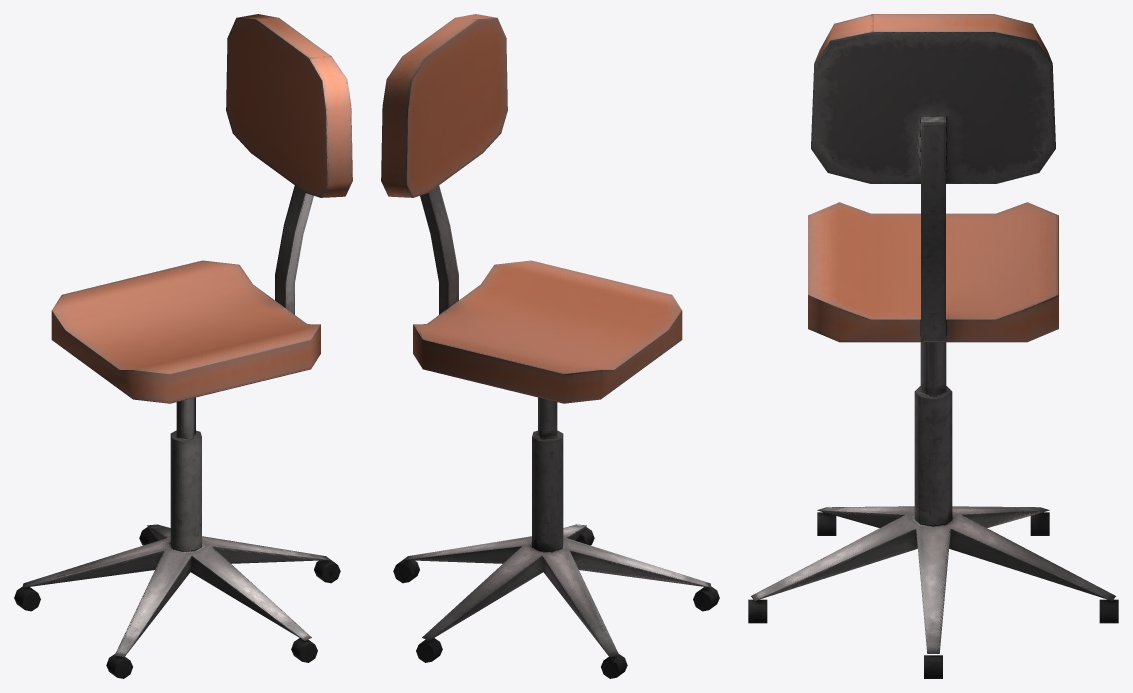
The model's file is chair_v2.glb.
3 renders of one model, left to right at view 1: azimuth 30°, elevation 25°; view 2: azimuth 150°, elevation 25°; view 3: azimuth 270°, elevation 25°, orthographic. The views are drawn at different scales.
Parts seen in each view (by area): view 1: Chair; view 2: Chair; view 3: Chair.
Part boxes in pixels (box(x1,y1,x2,y2)): Chair: box(14, 14, 352, 678); Chair: box(381, 14, 719, 678); Chair: box(748, 14, 1118, 678).
Size of the model in its own units: 0.5725 by 1.11 by 0.5824.
1 material, 1 textured.
